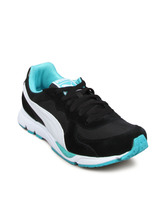shoes: (17, 59, 154, 173)
